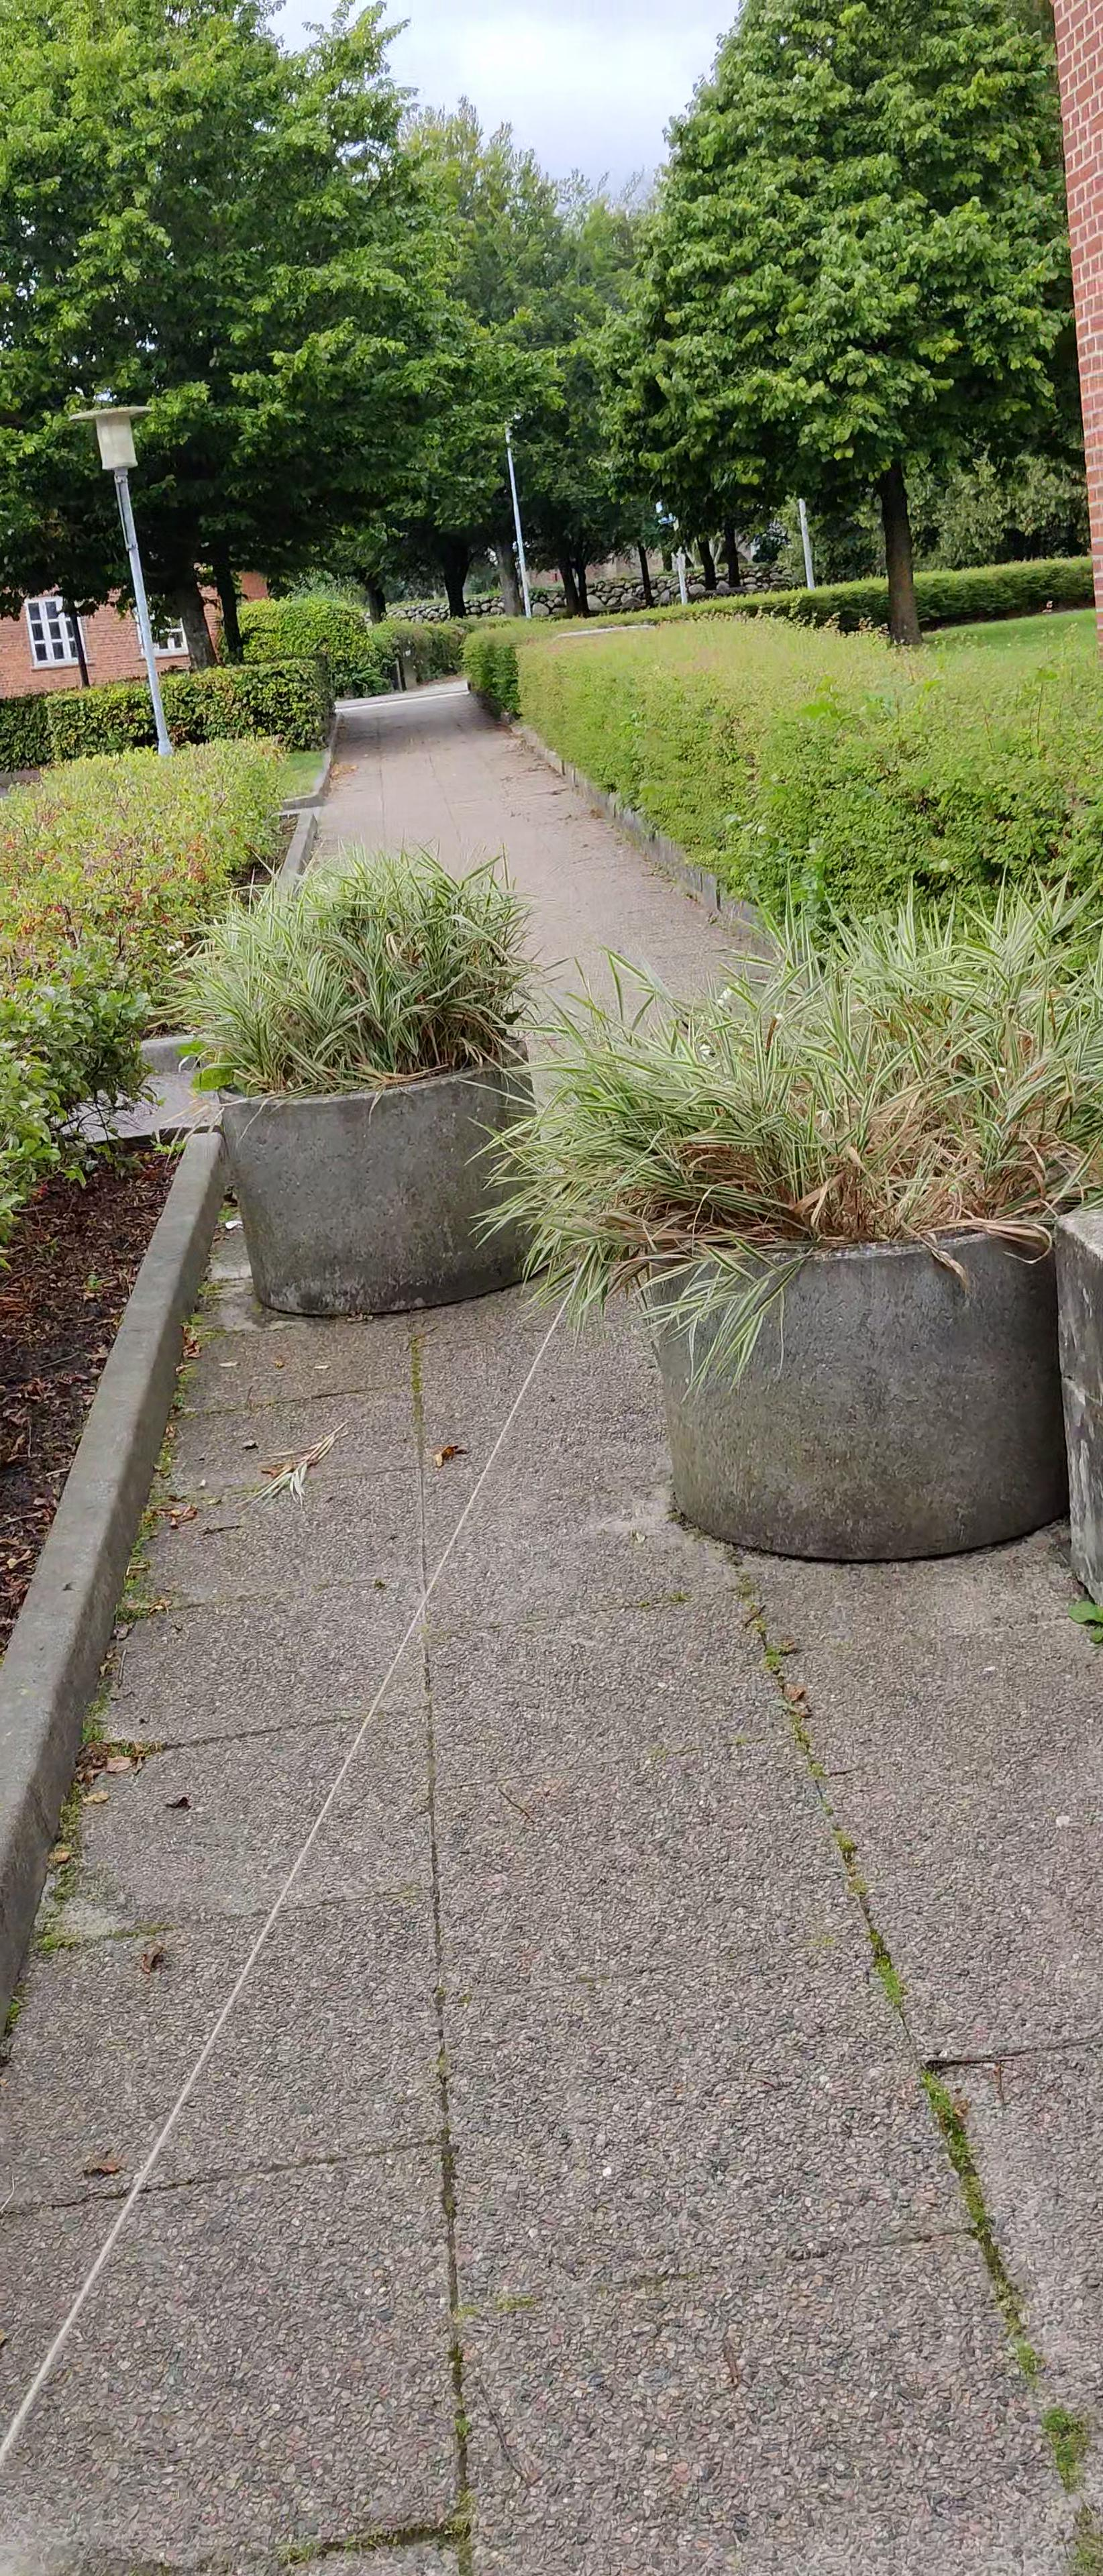Dog: (687, 977, 748, 1061)
